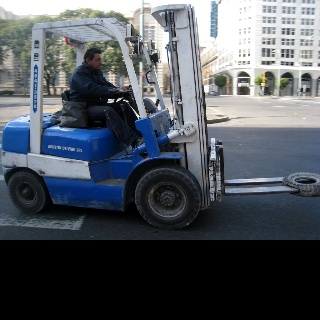without_mask: (90, 54, 101, 71)
